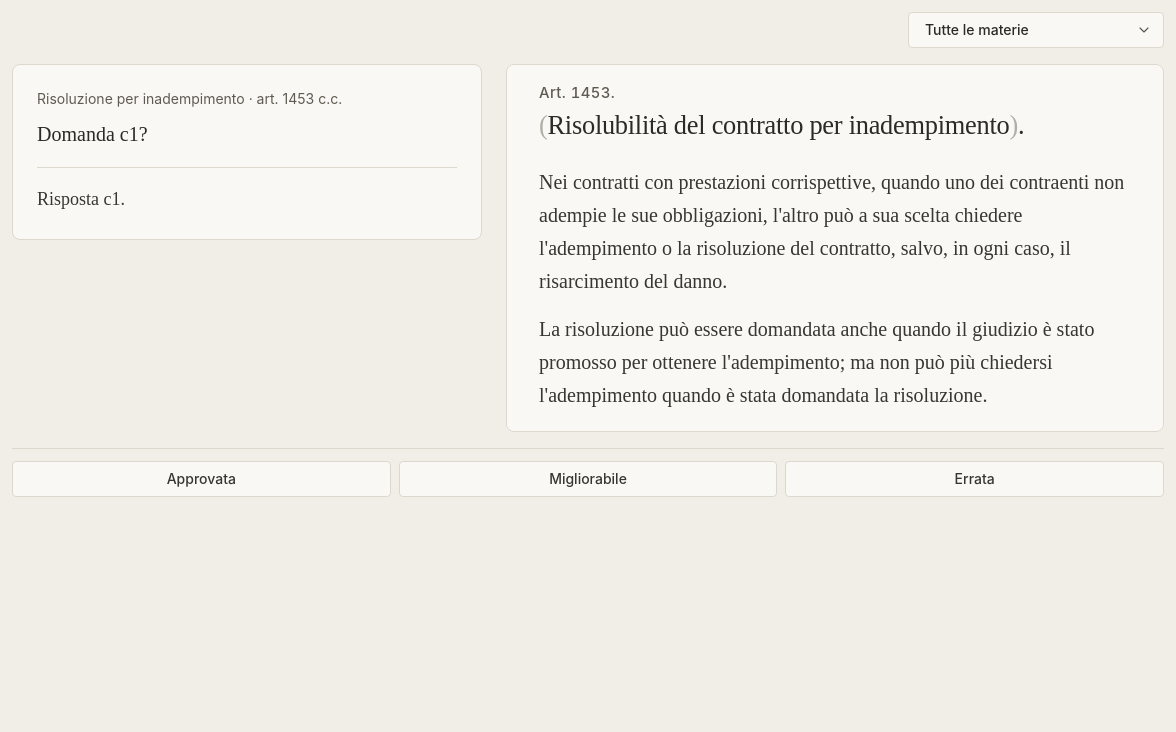
Scenario: «Da validare», a subject change while a vote is on its way › skips a card gone (404) in the same way
Expected: the text "Domanda c1?" is shown, [37,123,148,145]
Click the button "Approvata": {"x": 201, "y": 479} [12,461,391,497]
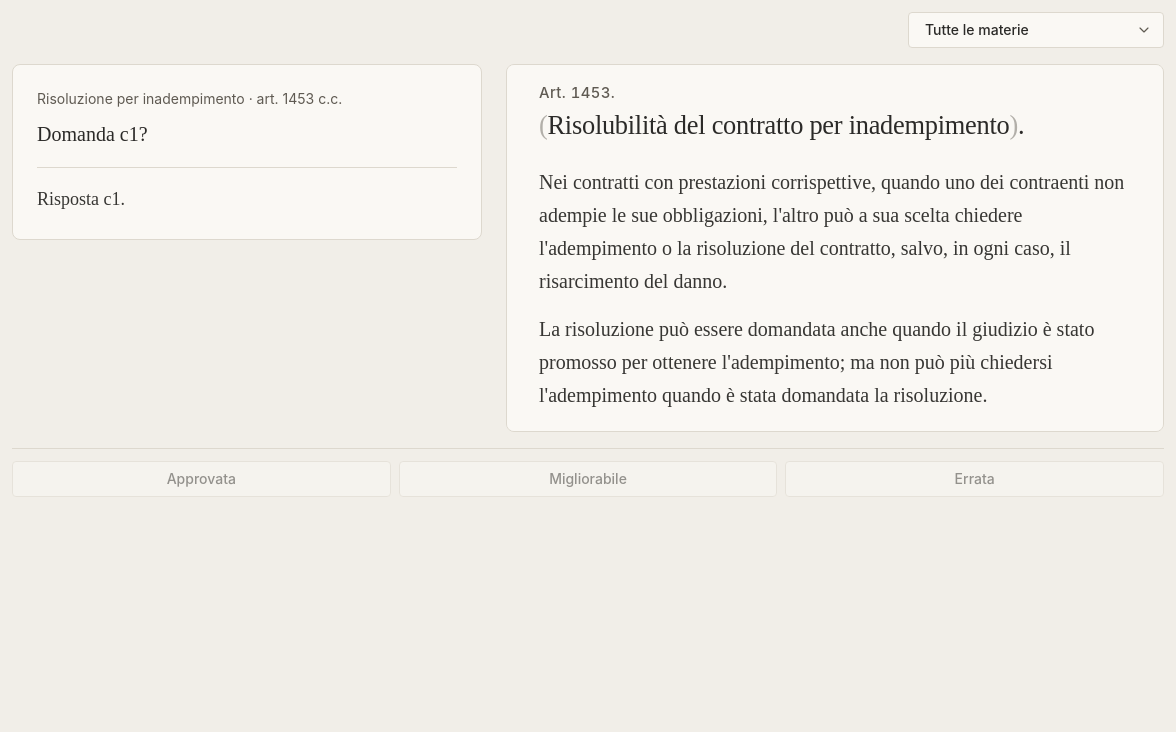
Select "Diritto penale" in the dropdown named "Materia": {"x": 1036, "y": 30} [908,12,1164,48]
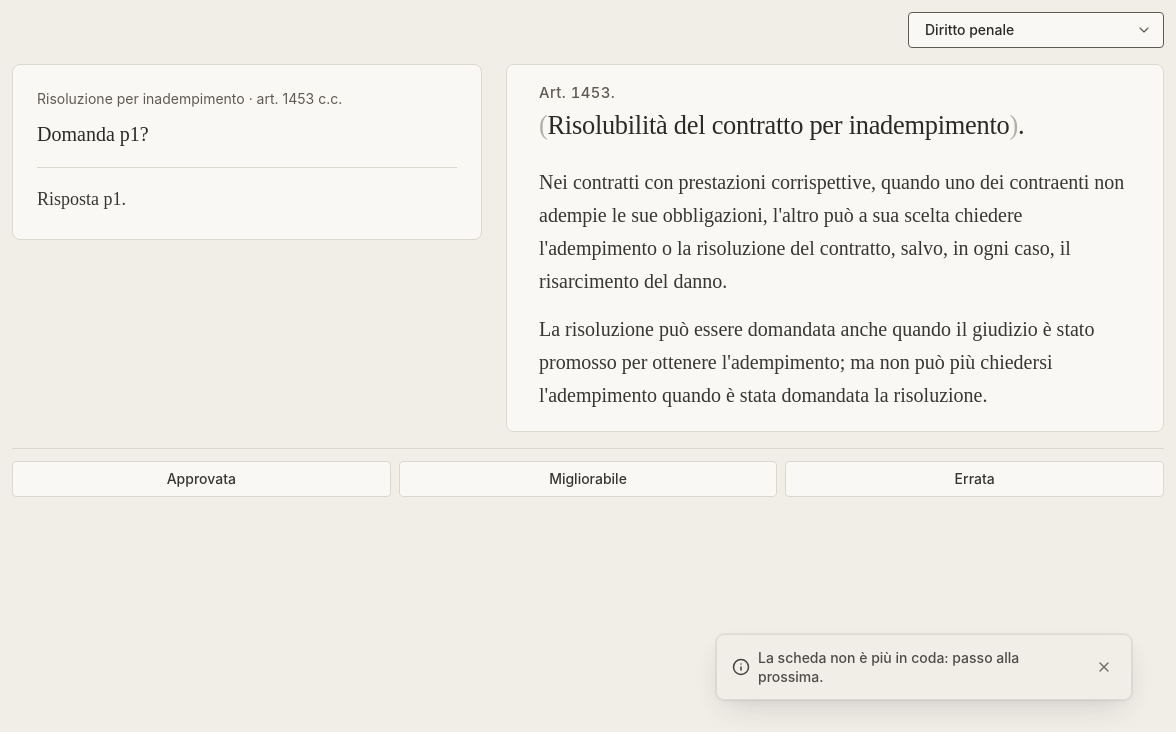
Expected: the text "La scheda non è più in coda: passo alla prossima." is shown, [758,648,1019,685]
Now the text "Domanda p1?" is shown, box [37,123,149,145]
